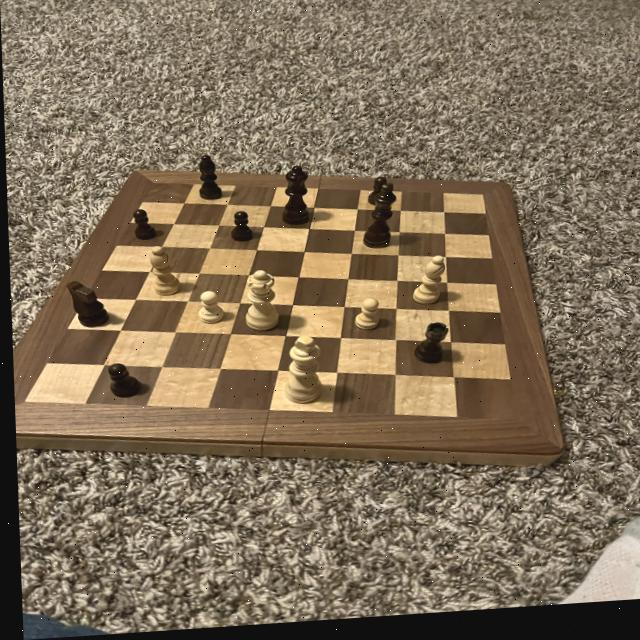bishop: (191, 153, 225, 208)
black-bishop: (357, 185, 398, 254)
black-king: (62, 277, 114, 334)
black-knight: (102, 360, 146, 402), (222, 209, 258, 250), (129, 209, 158, 245), (361, 179, 394, 210)
black-pawn: (278, 166, 316, 232)
black-queen: (406, 323, 449, 374)
black-rook: (402, 256, 451, 313), (146, 245, 181, 302)
white-bishop: (279, 336, 322, 409)
white-knight: (346, 299, 383, 337), (193, 288, 223, 331)
white-pawn: (239, 268, 281, 336)
